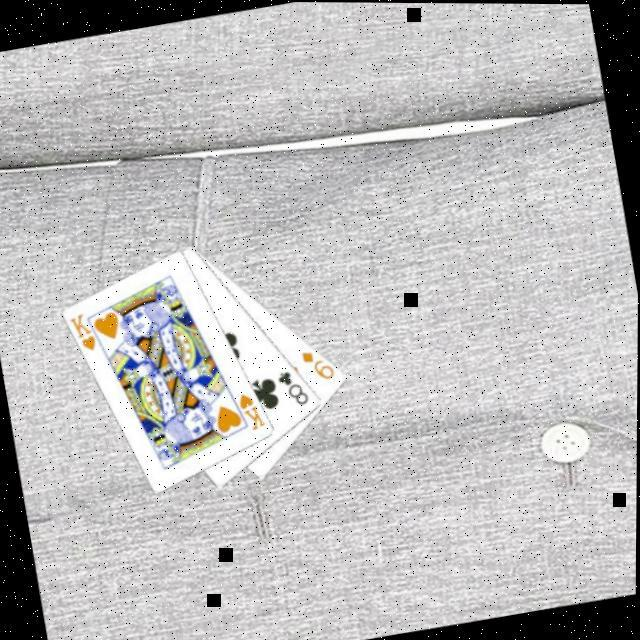8C: (274, 362, 314, 410)
9D: (298, 341, 340, 385)
KH: (67, 307, 102, 355), (236, 386, 270, 433)
